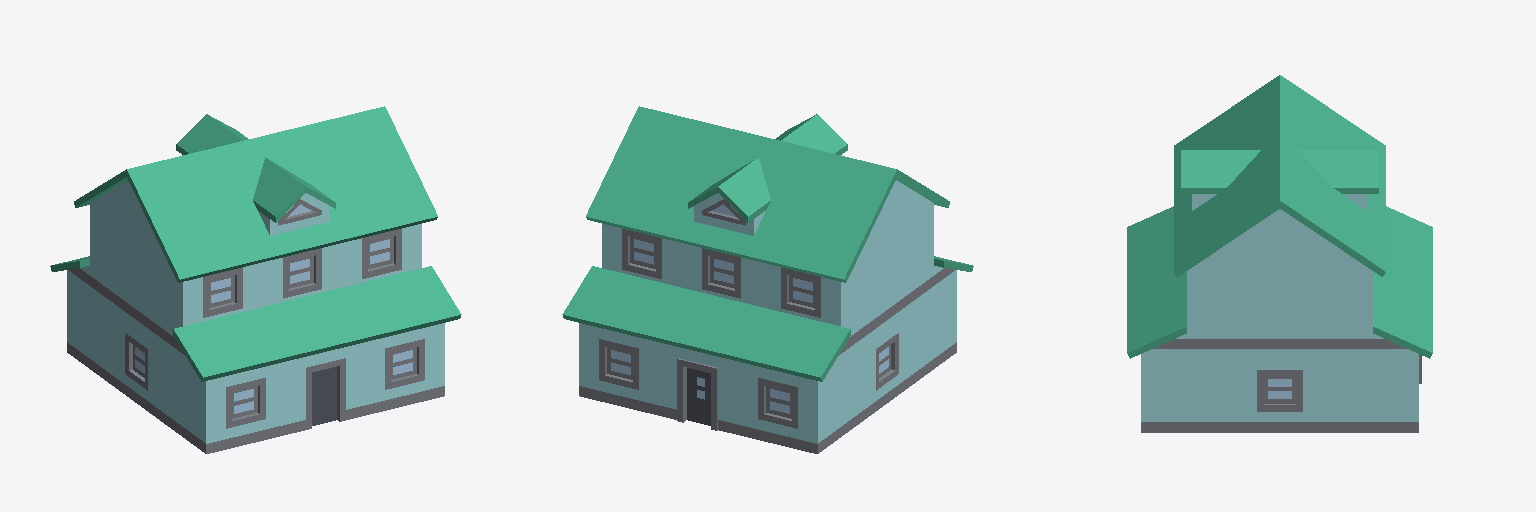
The model's file is insta_residential_beton_2.obj.
The picture shows the model from 3 angles: view 1: azimuth 30°, elevation 25°; view 2: azimuth 150°, elevation 25°; view 3: azimuth 270°, elevation 25°; orthographic projection.
Parts seen in each view (by area): view 1: city_residential_2; view 2: city_residential_2; view 3: city_residential_2.
Boxes of the visible parts, <box> form: city_residential_2: <box>50,106,461,453</box>; city_residential_2: <box>562,106,973,453</box>; city_residential_2: <box>1127,75,1432,432</box>.
Size of the model in its own units: 0.936 by 0.819 by 0.9596.